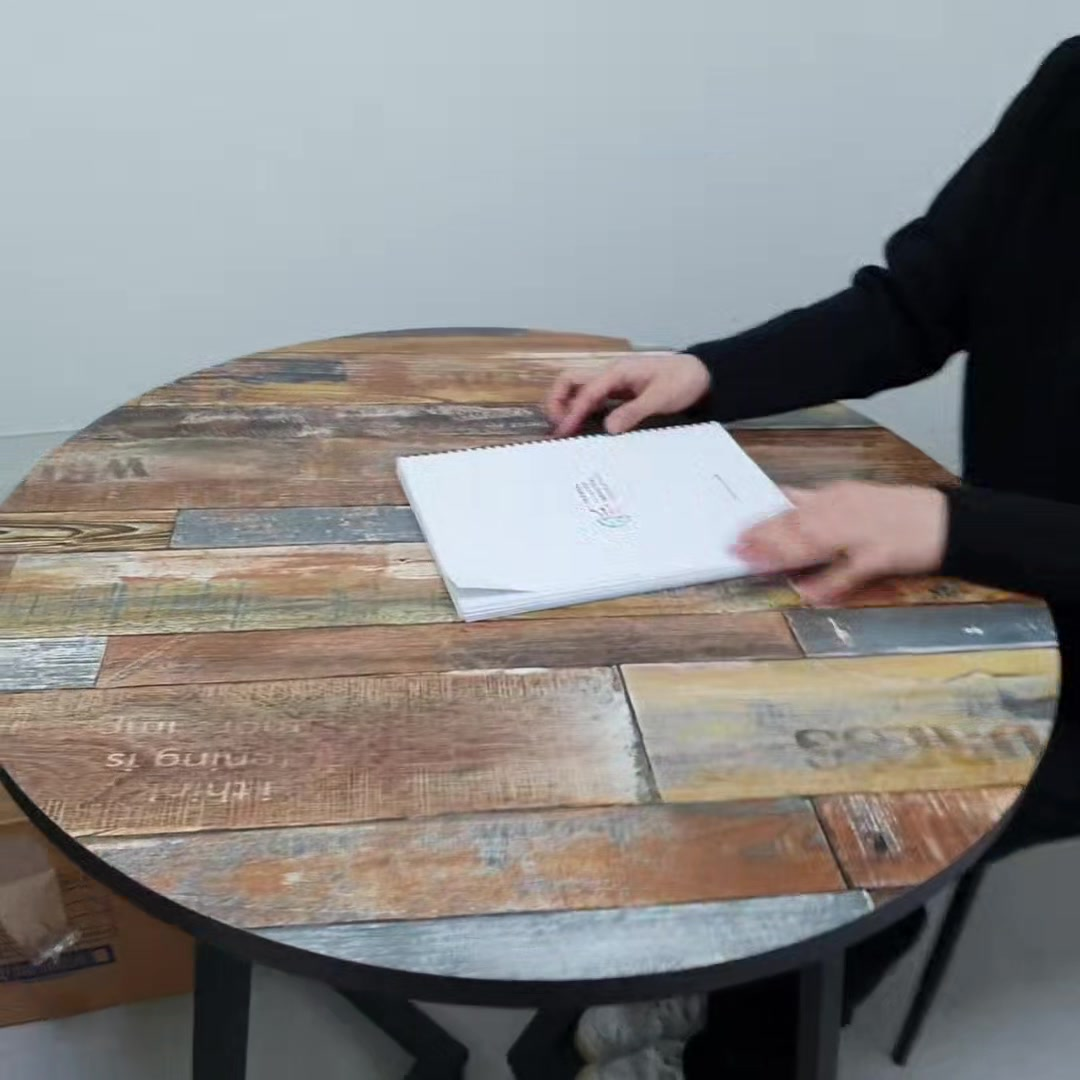book: (393, 417, 839, 626)
